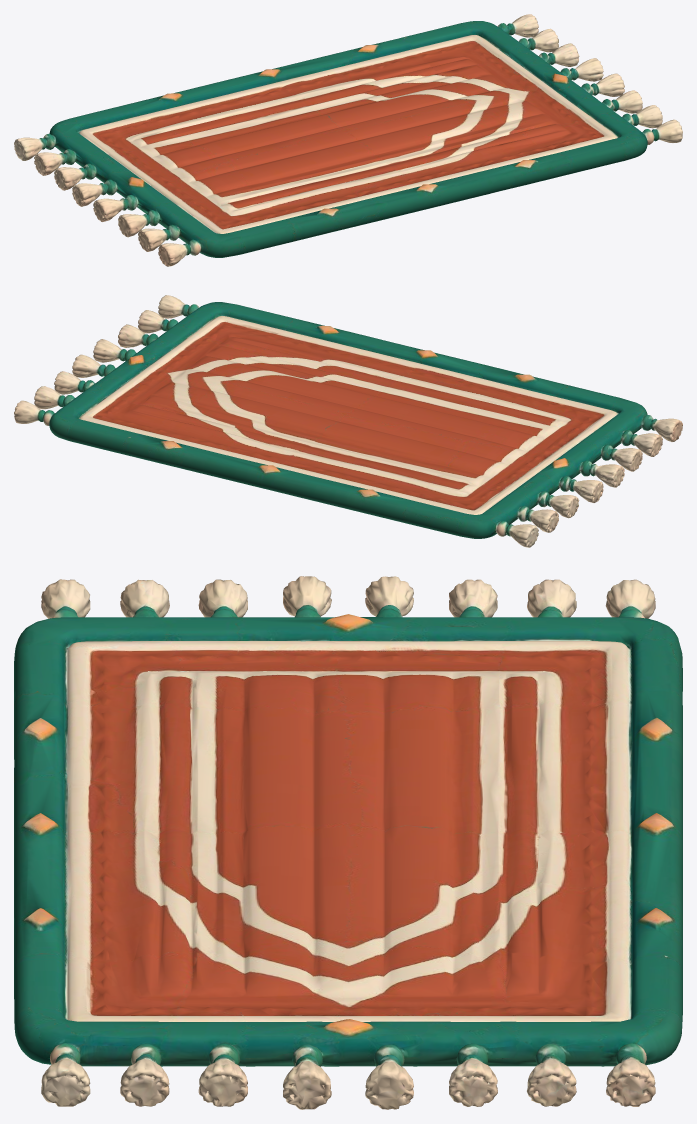
Rendered from masjid.glb.
3 views of the same model, one above another, from view 1: azimuth 30°, elevation 25°; view 2: azimuth 150°, elevation 25°; view 3: azimuth 270°, elevation 25° (orthographic). The views are drawn at different scales.
Size of the model in its own units: 1.9 by 0.0808 by 1.08.
Materials: 1 (1 with a texture image).
